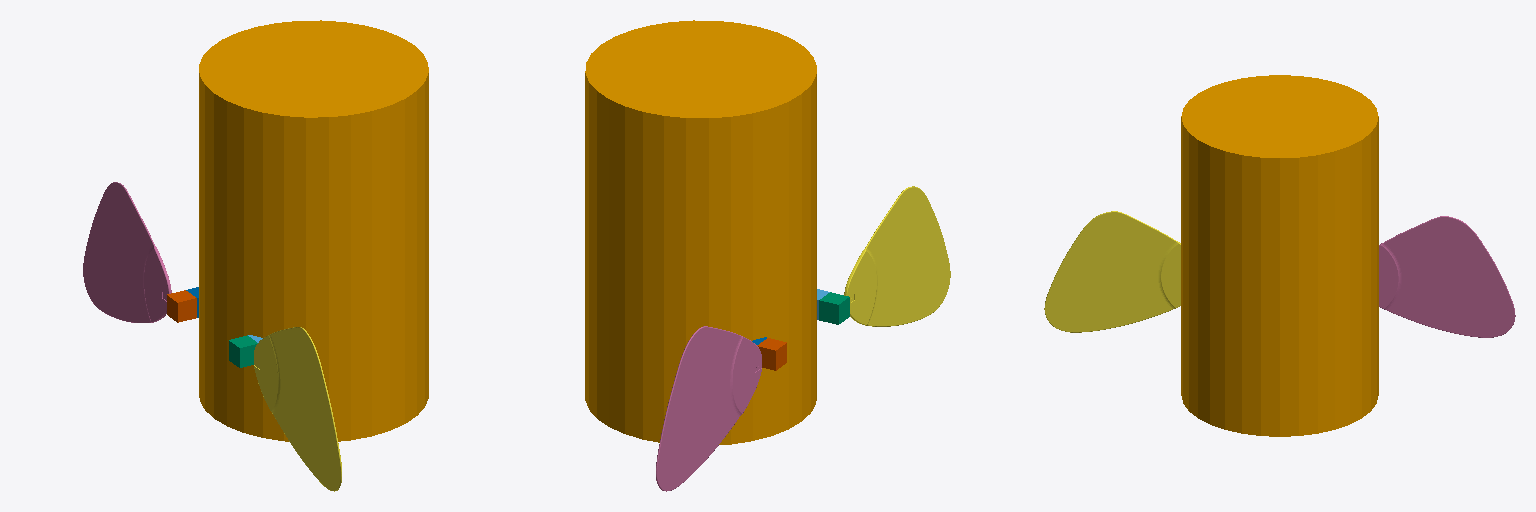
The robot description file, URDF, robot "pectoral_fin":
<robot name="pectoral_fin">


   <gazebo>
        <plugin name="gazebo_ros_control" filename="libgazebo_ros_control.so">
        </plugin>
    </gazebo>

	<!-- * * * Link Definitions * * * -->

    <link name="base_link">
 	    <inertial>
            <origin xyz="0 0 -0.00" rpy="0 0 0"/>
            <mass value="1.636394969088" />
         <!--<mass value="1.29054912" />        -->       
            <inertia ixx="0.005726" ixy="0.0" ixz="0.0" iyy="0.005726" iyz="0.0" izz="0.002704"/>
        </inertial>
        <collision>
            <origin rpy="0.0 0 0" xyz="0 0 0"/>
            <geometry>
                <cylinder radius="0.052" length="0.162"/>
            </geometry>
        </collision>
        <visual>
            <origin rpy="0.0 0 0" xyz="0 0 0"/>
            <geometry>
                <cylinder radius="0.052" length="0.162"/>
            </geometry>
        </visual>
    </link>
<!--3-dof Naro_pectoral_fin_right_link!-->    
    <link name="Naro_pectoral_fin_right_link_freedom1">
 	    <inertial>
            <origin xyz="0 0 0" rpy="0 0 0"/>
            <mass value="0.101024" />
            <inertia ixx="1.68373333333e-06" ixy="0.0" ixz="0.0" iyy="1.68373333333e-06" iyz="0.0" izz="1.68373333333e-06"/>
        </inertial>
        <collision>
            <origin xyz="0 0 0" rpy="0 0 0"/>
            <geometry>
                <box size="0.01 0.01 0.01" />
            </geometry>
        </collision>
        <visual>
            <origin xyz="0 0 0" rpy="0 0 0"/>
            <geometry>
               <box size="0.01 0.01 0.01" />
            </geometry>
            <material name="purple"/>
        </visual>

	</link>
    <joint name="NaroBody_1_Naro_pectoral_fin_right_joint_1" type="revolute">
    	<parent link="base_link"/>
    	<child link="Naro_pectoral_fin_right_link_freedom1"/>
        <origin xyz="-0.04275 -0.028 -0.03622" rpy="1.5707963267948966 0 0"/>
        <limit lower="-1.0" upper="1.0" effort="100" velocity="1.5"/>
        <axis xyz="0 1 0"/>
	</joint>
    
    <link name="Naro_pectoral_fin_right_link_freedom2">
 	    <inertial>
            <origin xyz="0 0 0" rpy="0 0 0"/>
            <mass value="0.001024" />
            <inertia ixx="1.68373333333e-06" ixy="0.0" ixz="0.0" iyy="1.68373333333e-06" iyz="0.0" izz="1.68373333333e-06"/>
        </inertial>
        <collision>
            <origin xyz="0 0 0" rpy="0 0 0"/>
            <geometry>
                <box size="0.01 0.01 0.01" />
            </geometry>
        </collision>
        <visual>
            <origin xyz="0 0 0" rpy="0 0 0"/>
            <geometry>
               <box size="0.01 0.01 0.01" />
            </geometry>
            <material name="purple"/>
        </visual>
	</link>

    <joint name="NaroBody_1_Naro_pectoral_fin_right_joint_2" type="revolute">
    	<parent link="Naro_pectoral_fin_right_link_freedom1"/>
    	<child link="Naro_pectoral_fin_right_link_freedom2"/>
        <origin xyz="-0.01 0 0" rpy="0 0 0"/>
        <limit lower="-1.0" upper="1.0" effort="100" velocity="1.5"/>
        <axis xyz="1 0 0"/>
	</joint>



    <link name="Naro_pectoral_fin_right_link">
 	    <inertial>
            <origin xyz="0 0 0" rpy="0 0 0"/>
         <mass value="0.01" />   
            <inertia ixx="3.15811533333e-05" ixy="0.0" ixz="0.0" iyy="3.00804033333e-05" iyz="0.0" izz="2.10075e-06"/>
        </inertial>
        <collision>
            <origin xyz="0 0 0" rpy="0 0 0"/>
            <geometry>
                <mesh filename="package://naro_description/meshes/pectoral_fin.dae"/>                
            </geometry>
        </collision>
        <visual>
            <origin xyz="0 0 0" rpy="0 0 0"/>
            <geometry>
                <mesh filename="package://naro_description/meshes/pectoral_fin.dae"/>
            </geometry>
            <material name="purple"/>
        </visual>
	</link>
    <!-- This is for color and physical properties in Gazebo, color won't work with the material tag in gazebo
    only for URDF coloring -->
    <gazebo reference="Naro_pectoral_fin_right_link_freedom1">
        <kp>1000000.0</kp>
        <kd>1000000.0</kd>
        <mu1>10.0</mu1>
        <mu2>10.0</mu2>
        <material>Gazebo/Purple</material>
    </gazebo>
    <gazebo reference="Naro_pectoral_fin_right_link_freedom2">
        <kp>1000000.0</kp>
        <kd>1000000.0</kd>
        <mu1>10.0</mu1>
        <mu2>10.0</mu2>
        <material>Gazebo/Purple</material>
    </gazebo>
        <gazebo reference="Naro_pectoral_fin_right_link">
        <kp>1000000.0</kp>
        <kd>1000000.0</kd>
        <mu1>10.0</mu1>
        <mu2>10.0</mu2>
        <material>Gazebo/Purple</material>




    </gazebo>
    <joint name="NaroBody_1_Naro_pectoral_fin_right_joint_3" type="revolute">
    	<parent link="Naro_pectoral_fin_right_link_freedom2"/>
    	<child link="Naro_pectoral_fin_right_link"/>
        <origin xyz="0 0. 0.01" rpy="0 0 0"/>
        <limit lower="-1.57" upper="1.57" effort="0.7" velocity="1.5"/>
        <axis xyz="0 0 1"/>
	</joint>
    <transmission name="tran4_joint1">
        <type>transmission_interface/SimpleTransmission</type>
        <joint name="NaroBody_1_Naro_pectoral_fin_right_joint_1">
            <hardwareInterface>EffortJointInterface</hardwareInterface>
        </joint>
        <actuator name="motor4_1">
            <hardwareInterface>EffortJointInterface</hardwareInterface>
            <mechanicalReduction>1</mechanicalReduction>
        </actuator>
    </transmission>
    <transmission name="tran4_joint2">
        <type>transmission_interface/SimpleTransmission</type>
        <joint name="NaroBody_1_Naro_pectoral_fin_right_joint_2">
            <hardwareInterface>EffortJointInterface</hardwareInterface>
        </joint>
        <actuator name="motor4_2">
            <hardwareInterface>EffortJointInterface</hardwareInterface>
            <mechanicalReduction>1</mechanicalReduction>
        </actuator>
    </transmission>	
    <transmission name="tran4_joint3">
        <type>transmission_interface/SimpleTransmission</type>
        <joint name="NaroBody_1_Naro_pectoral_fin_right_joint_3">
            <hardwareInterface>EffortJointInterface</hardwareInterface>
        </joint>
        <actuator name="motor4_3">
            <hardwareInterface>EffortJointInterface</hardwareInterface>
            <mechanicalReduction>1</mechanicalReduction>
        </actuator>
    </transmission>
    
<!--3-dof Naro_pectoral_fin_left_link!--> 
    <link name="Naro_pectoral_fin_left_link_freedom1">
 	    <inertial>
            <origin xyz="0 0 0" rpy="0 0 0"/>
            <mass value="0.101024" />
            <inertia ixx="1.68373333333e-06" ixy="0.0" ixz="0.0" iyy="1.68373333333e-06" iyz="0.0" izz="1.68373333333e-06"/>
        </inertial>
        <collision>
            <origin xyz="0 0 0" rpy="0 0 0"/>
            <geometry>
                <box size="0.01 0.01 0.01" />
            </geometry>
        </collision>
        <visual>
            <origin xyz="0 0 0" rpy="0 0 0"/>
            <geometry>
               <box size="0.01 0.01 0.01" />
            </geometry>
            <material name="purple"/>
        </visual>
	</link>
    <joint name="NaroBody_1_Naro_pectoral_fin_left_joint_1" type="revolute">
    	<parent link="base_link"/>
    	<child link="Naro_pectoral_fin_left_link_freedom1"/>
        <origin xyz="-0.04275 0.028 -0.03622" rpy="-1.5707963267948966 0 0"/>
        <limit lower="-1.0" upper="1.0" effort="100" velocity="1.5"/>
        <axis xyz="1 0 0"/>
	</joint>
    
    <link name="Naro_pectoral_fin_left_link_freedom2">
 	    <inertial>
            <origin xyz="0 0 0" rpy="0 0 0"/>
            <mass value="0.001024" />
            <inertia ixx="1.68373333333e-06" ixy="0.0" ixz="0.0" iyy="1.68373333333e-06" iyz="0.0" izz="1.68373333333e-06"/>
        </inertial>
        <collision>
            <origin xyz="0 0 0" rpy="0 0 0"/>
            <geometry>
                <box size="0.01 0.01 0.01" />
            </geometry>
        </collision>
        <visual>
            <origin xyz="0 0 0" rpy="0 0 0"/>
            <geometry>
               <box size="0.01 0.01 0.01" />
            </geometry>
            <material name="purple"/>
        </visual>
	</link>
    <joint name="NaroBody_1_Naro_pectoral_fin_left_joint_2" type="revolute">
    	<parent link="Naro_pectoral_fin_left_link_freedom1"/>
    	<child link="Naro_pectoral_fin_left_link_freedom2"/>
        <origin xyz="-0.01 0 0" rpy="0 0 0"/>
        <limit lower="-0.4" upper="0.4" effort="100" velocity="1.5"/>
        <axis xyz="0 1 0"/>
	</joint>
    <link name="Naro_pectoral_fin_left_link">
 	    <inertial>
            <origin xyz="0 0 0" rpy="0 0 0"/>
         <mass value="0.01" />   
            <inertia ixx="3.15811533333e-05" ixy="0.0" ixz="0.0" iyy="3.00804033333e-05" iyz="0.0" izz="2.10075e-06"/>
        </inertial>
        <collision>
            <origin xyz="0 0 0" rpy="0 0 0"/>
            <geometry>
                <mesh filename="package://naro_description/meshes/pectoral_fin.dae"/>
            </geometry>
        </collision>
        <visual>
            <origin xyz="0 0 0" rpy="0 0 0"/>
            <geometry>
                <mesh filename="package://naro_description/meshes/pectoral_fin.dae"/>
            </geometry>
            <material name="purple"/>
        </visual>
	</link>
    <!-- This is for color and physical properties in Gazebo, color won't work with the material tag in gazebo
    only for URDF coloring -->
    <gazebo reference="Naro_pectoral_fin_left_link_freedom1">
        <kp>1000000.0</kp>
        <kd>1000000.0</kd>
        <mu1>10.0</mu1>
        <mu2>10.0</mu2>
        <material>Gazebo/Purple</material>
    </gazebo>
    <gazebo reference="Naro_pectoral_fin_left_link_freedom2">
        <kp>1000000.0</kp>
        <kd>1000000.0</kd>
        <mu1>10.0</mu1>
        <mu2>10.0</mu2>
        <material>Gazebo/Purple</material>
    </gazebo>
    <gazebo reference="Naro_pectoral_fin_left_link">
        <kp>1000000.0</kp>
        <kd>1000000.0</kd>
        <mu1>10.0</mu1>
        <mu2>10.0</mu2>
        <material>Gazebo/Purple</material>
    </gazebo>

    <joint name="NaroBody_1_Naro_pectoral_fin_left_joint_3" type="revolute">
    	<parent link="Naro_pectoral_fin_left_link_freedom2"/>
    	<child link="Naro_pectoral_fin_left_link"/>
        <origin xyz="0 0 0.01" rpy="0 0 3.14"/>
        <limit lower="-1.57" upper="1.57" effort="0.7" velocity="1.5"/>
        <axis xyz="0 0 1"/>
	</joint>
	
    <transmission name="tran5_freedom1">
        <type>transmission_interface/SimpleTransmission</type>
        <joint name="NaroBody_1_Naro_pectoral_fin_left_joint_1">
            <hardwareInterface>EffortJointInterface</hardwareInterface>
        </joint>
        <actuator name="motor5_1">
            <hardwareInterface>EffortJointInterface</hardwareInterface>
            <mechanicalReduction>1</mechanicalReduction>
        </actuator>
    </transmission>
    <transmission name="tran5_freedom2">
        <type>transmission_interface/SimpleTransmission</type>
        <joint name="NaroBody_1_Naro_pectoral_fin_left_joint_2">
            <hardwareInterface>EffortJointInterface</hardwareInterface>
        </joint>
        <actuator name="motor5_2">
            <hardwareInterface>EffortJointInterface</hardwareInterface>
            <mechanicalReduction>1</mechanicalReduction>
        </actuator>
    </transmission>
    <transmission name="tran5_freedom3">
        <type>transmission_interface/SimpleTransmission</type>
        <joint name="NaroBody_1_Naro_pectoral_fin_left_joint_3">
            <hardwareInterface>EffortJointInterface</hardwareInterface>
        </joint>
        <actuator name="motor5_3">
            <hardwareInterface>EffortJointInterface</hardwareInterface>
            <mechanicalReduction>1</mechanicalReduction>
        </actuator>
    </transmission>

  
    <gazebo>
      <plugin name="lifting_surface1" filename="libLiftDragPlugin.so">
        <a0>0</a0>
        <alpha_stall>0.5</alpha_stall>
        <cla>0</cla>
        <cla_stall>0</cla_stall>
        <cda>3</cda>
        <cda_stall>3</cda_stall>
        <air_density>1024</air_density>
        <area>0.006</area>
        <forward>0 -1 0</forward>
        <upward>-1 0 0</upward>
        <cp>0 0.0 0.03</cp>
        <link_name>Naro_pectoral_fin_left_link</link_name>
        <radial_symmetry>false</radial_symmetry>
      </plugin>    
    
    </gazebo>
    <gazebo>
    <plugin name="lifting_surface2" filename="libLiftDragPlugin.so">
        <a0>0</a0>
        <alpha_stall>0.5</alpha_stall>
        <cla>0</cla>
        <cla_stall>0</cla_stall>
        <cda>1.1</cda>
        <cda_stall>3</cda_stall>
        <area>0.006</area>
        <air_density>1024</air_density>
        <cp>0 0.00 0.03</cp>
        <forward>0 -1 0</forward>
        <upward>1 0 0</upward>
        <link_name>Naro_pectoral_fin_right_link</link_name>
        <radial_symmetry>false</radial_symmetry>
      </plugin>
    </gazebo>
    <!--fuli-->
    <gazebo>
          <plugin name="BuoyancyPlugin1" filename="libBuoyancyPlugin.so">
            <!-- a viscous liquid -->
            <fluid_density>1024</fluid_density>
            <link name="base_link">
                  <center_of_volume>0,0,-0.4</center_of_volume>
            </link>
        </plugin>
    </gazebo>


</robot>

--- Facts derived from the render (not from the file) ---
Views: 3 orthographic renders of the robot side by side, from view 1: azimuth 30°, elevation 25°; view 2: azimuth 150°, elevation 25°; view 3: azimuth 270°, elevation 25°.
Model pectoral_fin with 7 links and 6 joints (6 revolute), rooted at base_link, posed every joint at zero.
Links seen in each view (by area): view 1: base_link, Naro_pectoral_fin_left_link, Naro_pectoral_fin_right_link, Naro_pectoral_fin_left_link_freedom2, Naro_pectoral_fin_right_link_freedom2; view 2: base_link, Naro_pectoral_fin_left_link, Naro_pectoral_fin_right_link, Naro_pectoral_fin_right_link_freedom2, Naro_pectoral_fin_left_link_freedom2; view 3: base_link, Naro_pectoral_fin_right_link, Naro_pectoral_fin_left_link.
Boxes of the visible links, box(x1,y1,x2,y2) form: base_link: box(199, 20, 428, 441); Naro_pectoral_fin_left_link: box(83, 182, 171, 322); Naro_pectoral_fin_right_link: box(254, 327, 341, 491); Naro_pectoral_fin_left_link_freedom2: box(167, 290, 196, 322); Naro_pectoral_fin_right_link_freedom2: box(229, 335, 257, 367); base_link: box(585, 20, 816, 444); Naro_pectoral_fin_left_link: box(656, 326, 761, 491); Naro_pectoral_fin_right_link: box(844, 186, 950, 326); Naro_pectoral_fin_right_link_freedom2: box(819, 292, 849, 324); Naro_pectoral_fin_left_link_freedom2: box(757, 338, 786, 370); base_link: box(1181, 75, 1378, 436); Naro_pectoral_fin_right_link: box(1044, 211, 1180, 332); Naro_pectoral_fin_left_link: box(1379, 216, 1515, 337).
Size in the robot's own frame: 0.1098 by 0.2483 by 0.162 metres.
2 mesh visuals loaded from 1 distinct referenced files (1 Collada DAE).
